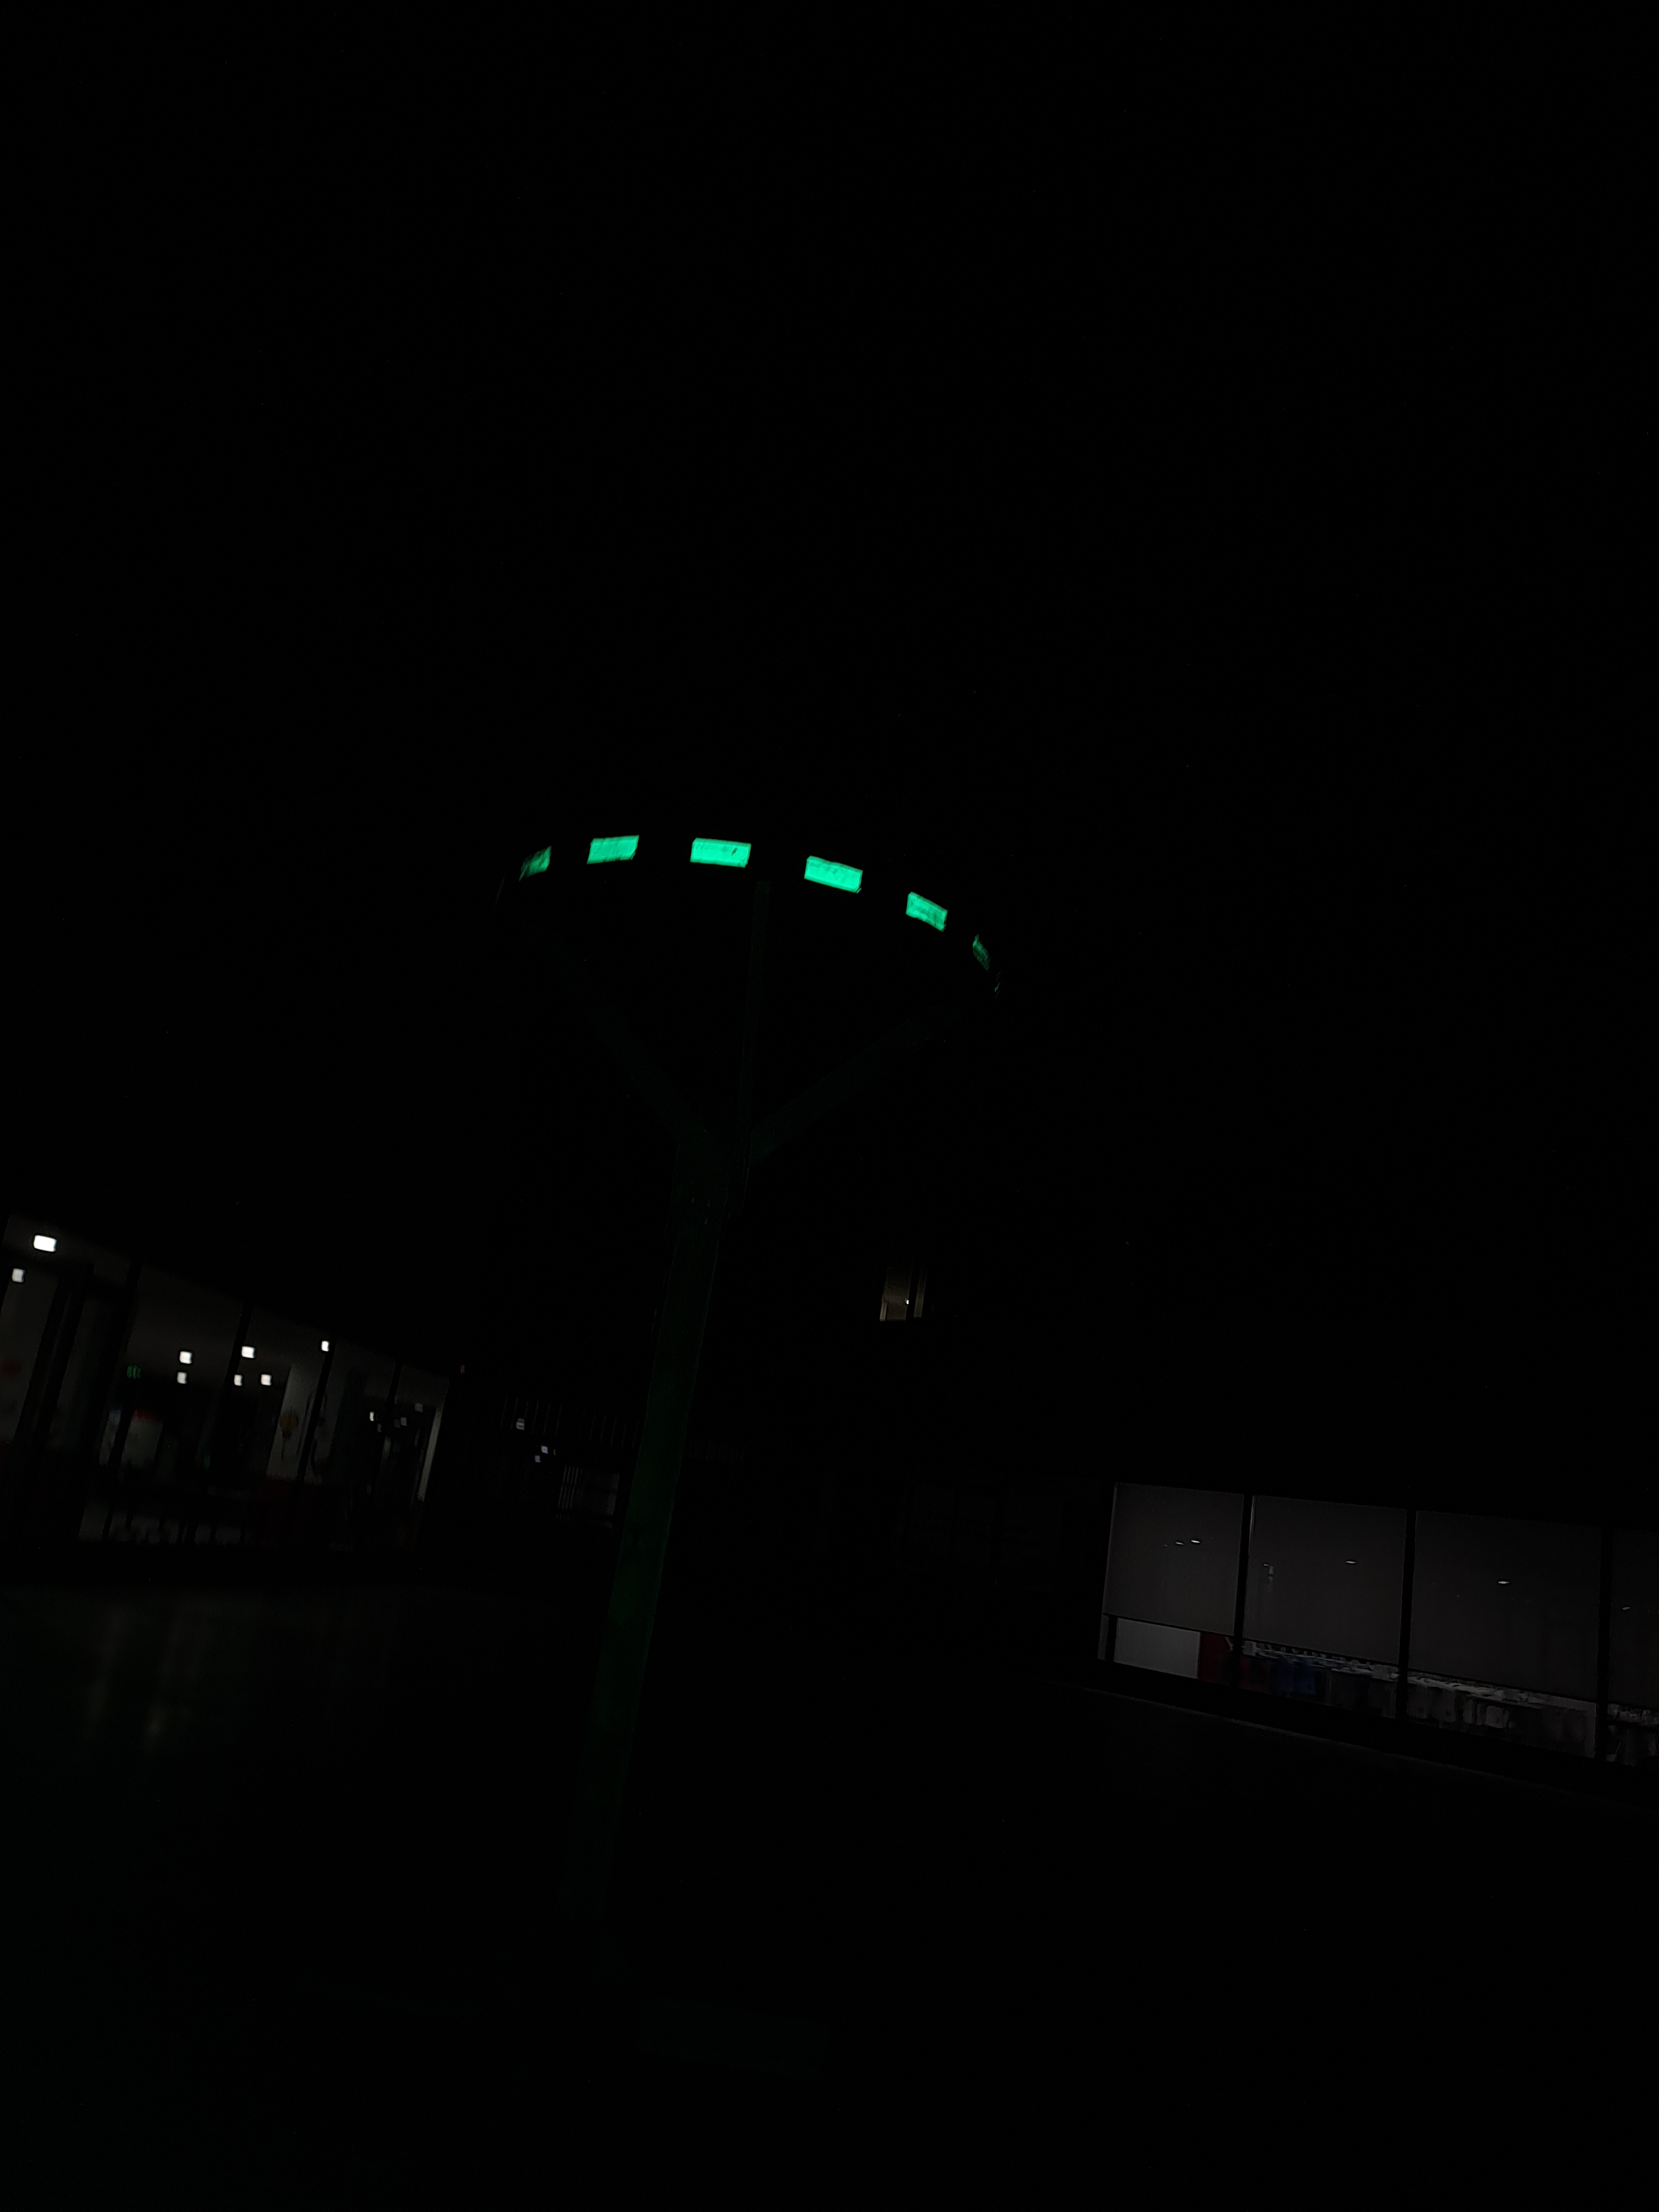hoop: (516, 815, 953, 960)
